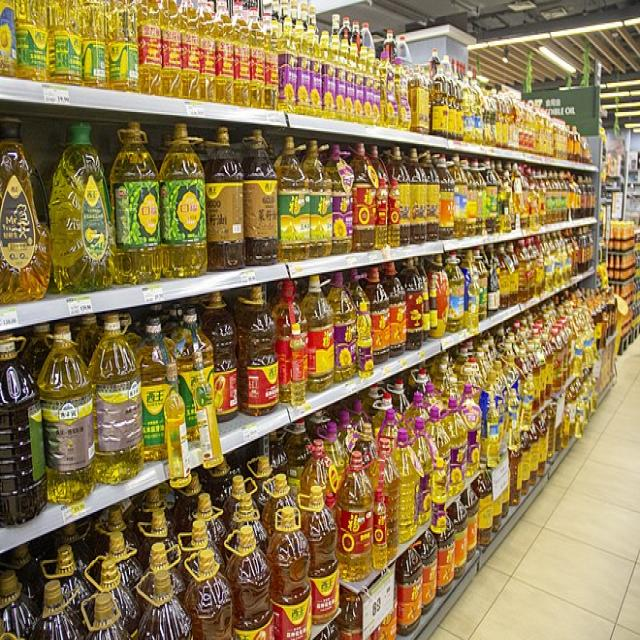Oil: (270, 25, 538, 138), (42, 330, 147, 506), (145, 311, 221, 473), (141, 16, 277, 106), (390, 412, 482, 544), (273, 470, 339, 640), (50, 129, 115, 291), (0, 118, 52, 307), (276, 137, 349, 262), (276, 276, 345, 406), (153, 127, 207, 275), (109, 129, 161, 279), (196, 127, 249, 272), (335, 447, 392, 580), (239, 284, 285, 417), (240, 131, 277, 268)
